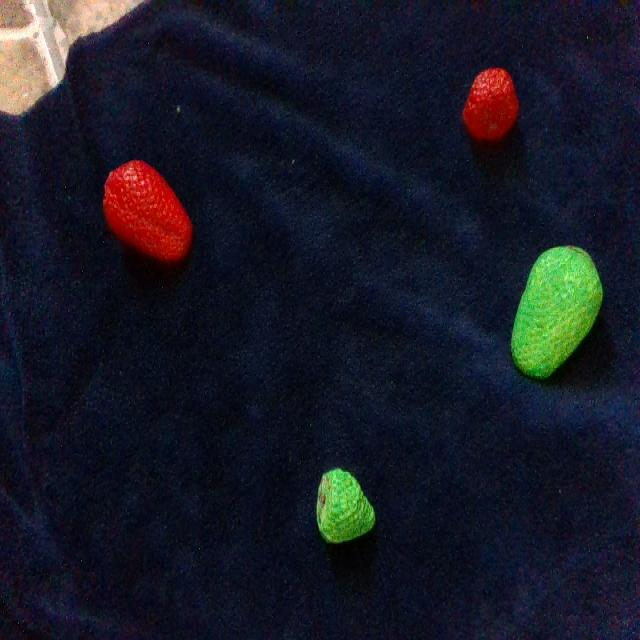chica_roja: (462, 68, 519, 141)
grande_roja: (104, 160, 192, 261)
verde: (511, 248, 602, 377), (316, 468, 375, 543)
